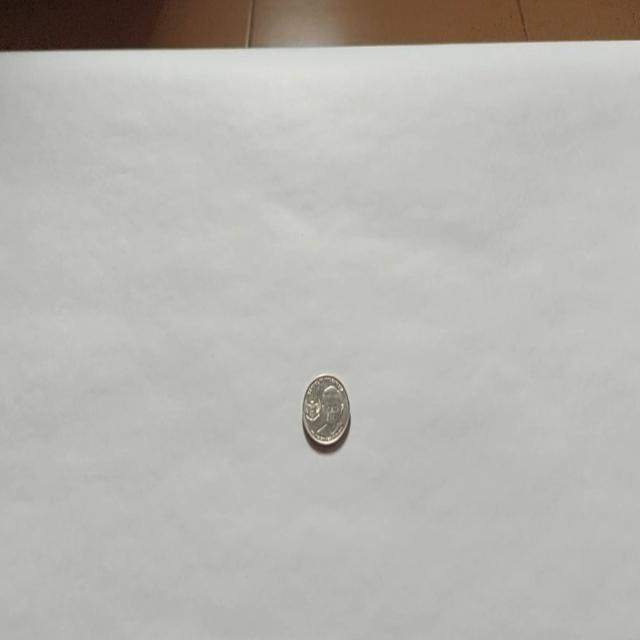seribu rupiah koin: (301, 372, 351, 450)
